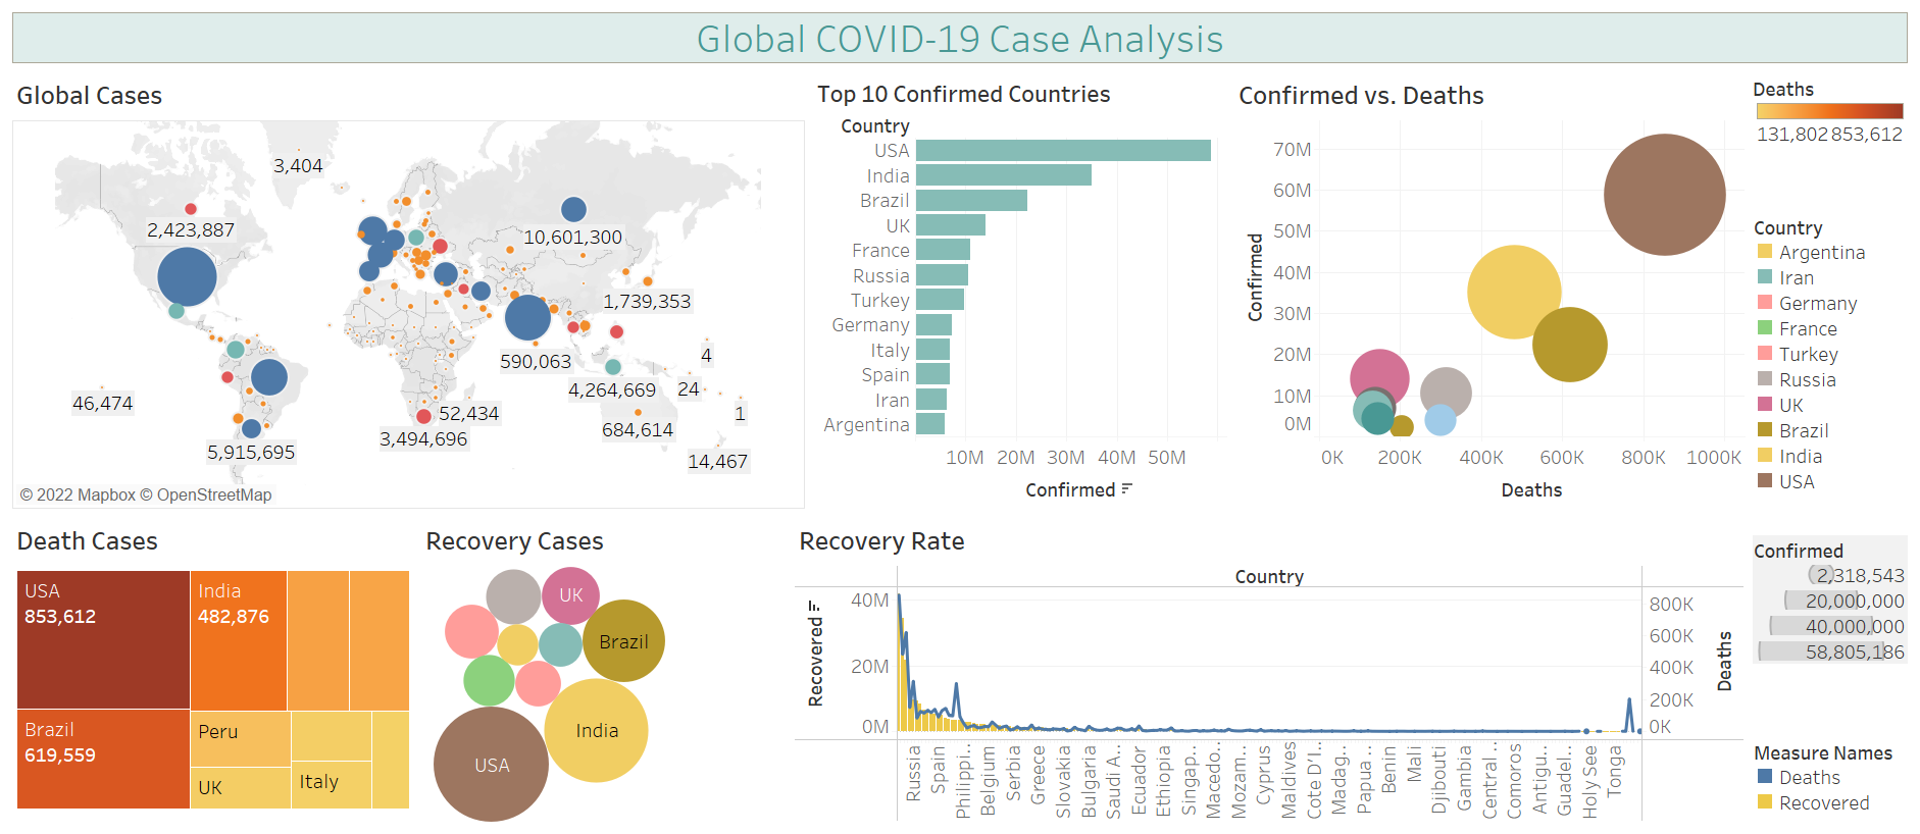

Layout of this report page (visuals, bound fields, positions):
{"tool":"tableau","page":{"name":"Dashboard 1","canvas":[1000,1000],"units":"permille","ordinal":0},"visuals":[{"type":"worksheet","title":"Top 10 Confirmed Countries","mark":"Automatic","rows":["confirmed"],"cols":["country"],"box":[5,9.3,303.6,490.7]},{"type":"worksheet","title":"Global Cases","mark":"Automatic","rows":["Latitude"],"cols":["Longitude"],"box":[308.6,9.3,293.3,490.7]},{"type":"worksheet","title":"Line Chars","mark":"Automatic","rows":["recovered","deaths"],"cols":["country"],"box":[601.9,9.3,293.3,490.7]},{"type":"legend","title":"Death Cases","param":"[federated.093q4ch0ie9q3i163r99x02ppzvr].[sum:deaths:qk]","box":[895.3,9.3,99.8,93.9]},{"type":"legend","title":"Recovery Cases","param":"[federated.093q4ch0ie9q3i163r99x02ppzvr].[none:country:nk]","box":[895.3,103.1,99.8,329.1]},{"type":"legend","title":"Confirmed vs. Deaths","param":"[federated.093q4ch0ie9q3i163r99x02ppzvr].[sum:confirmed:qk]","box":[895.3,432.2,99.8,155.3]},{"type":"worksheet","title":"Death Cases","mark":"Automatic","box":[5,500,314.2,490.7]},{"type":"worksheet","title":"Recovery Cases","mark":"Circle","box":[319.2,500,369.7,490.7]},{"type":"worksheet","title":"Confirmed vs. Deaths","mark":"Automatic","rows":["confirmed"],"cols":["deaths"],"box":[688.9,500,206.4,490.7]},{"type":"legend","title":"Line Chars","param":"[federated.093q4ch0ie9q3i163r99x02ppzvr].[:Measure Names]","box":[895.3,587.5,99.8,105.5]}]}

Visuals, with their boxes on the dashboard's canvas, which has no fixed pixel size, in thousandths of its width and height (x1, y1, x2, y2). These are canvas units, not pixel positions in the 1920x834 screenshot, which may show the page scaled, cropped or inside an application window:
"Top 10 Confirmed Countries" worksheet: [left=5, top=9, right=309, bottom=500]
"Global Cases" worksheet: [left=309, top=9, right=602, bottom=500]
"Line Chars" worksheet: [left=602, top=9, right=895, bottom=500]
"Death Cases" legend: [left=895, top=9, right=995, bottom=103]
"Recovery Cases" legend: [left=895, top=103, right=995, bottom=432]
"Confirmed vs. Deaths" legend: [left=895, top=432, right=995, bottom=588]
"Death Cases" worksheet: [left=5, top=500, right=319, bottom=991]
"Recovery Cases" worksheet (Circle marks): [left=319, top=500, right=689, bottom=991]
"Confirmed vs. Deaths" worksheet: [left=689, top=500, right=895, bottom=991]
"Line Chars" legend: [left=895, top=588, right=995, bottom=693]
